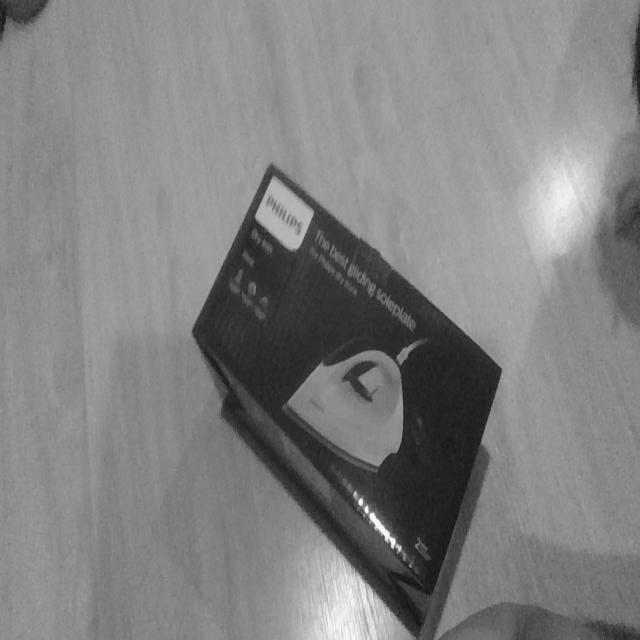IRON: (190, 160, 503, 636)
